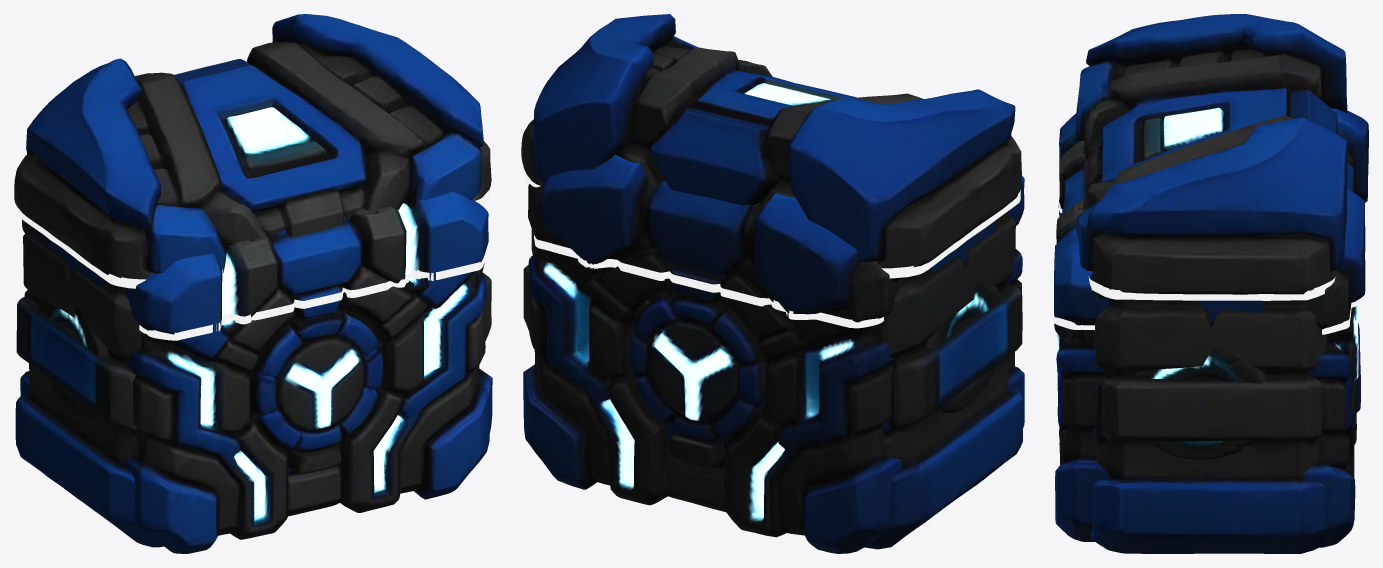
Rendered from chest_boxes.glb.
3 views of the same model, side by side, from view 1: azimuth 30°, elevation 25°; view 2: azimuth 150°, elevation 25°; view 3: azimuth 270°, elevation 25° (orthographic). The views are drawn at different scales.
Visible parts, largest first — view 1: mecha_lid, cyber_body, mecha_body, cyber_lid, cyber_seam, mecha_seam; view 2: cyber_body, mecha_lid, cyber_lid, mecha_body, cyber_seam, mecha_seam; view 3: mecha_lid, mecha_body, cyber_body, cyber_lid, mecha_seam, cyber_seam.
Part boxes in pixels (x1,y1,x2,y2): mecha_lid: [14, 14, 491, 279]; cyber_body: [20, 271, 489, 553]; mecha_body: [15, 226, 492, 547]; cyber_lid: [22, 192, 488, 334]; cyber_seam: [139, 255, 484, 340]; mecha_seam: [18, 187, 490, 288]; cyber_body: [523, 248, 1024, 553]; mecha_lid: [521, 14, 1022, 268]; cyber_lid: [528, 155, 1024, 322]; mecha_body: [523, 212, 1022, 549]; cyber_seam: [534, 221, 1019, 328]; mecha_seam: [524, 171, 1020, 278]; mecha_lid: [1075, 14, 1347, 294]; mecha_body: [1091, 291, 1329, 553]; cyber_body: [1054, 197, 1360, 547]; cyber_lid: [1054, 108, 1368, 329]; mecha_seam: [1088, 276, 1335, 300]; cyber_seam: [1053, 185, 1368, 334].
Bounding box in the file's own units: 1.52 × 1.53 × 1.08.
Materials: 4 (1 with a texture image).
